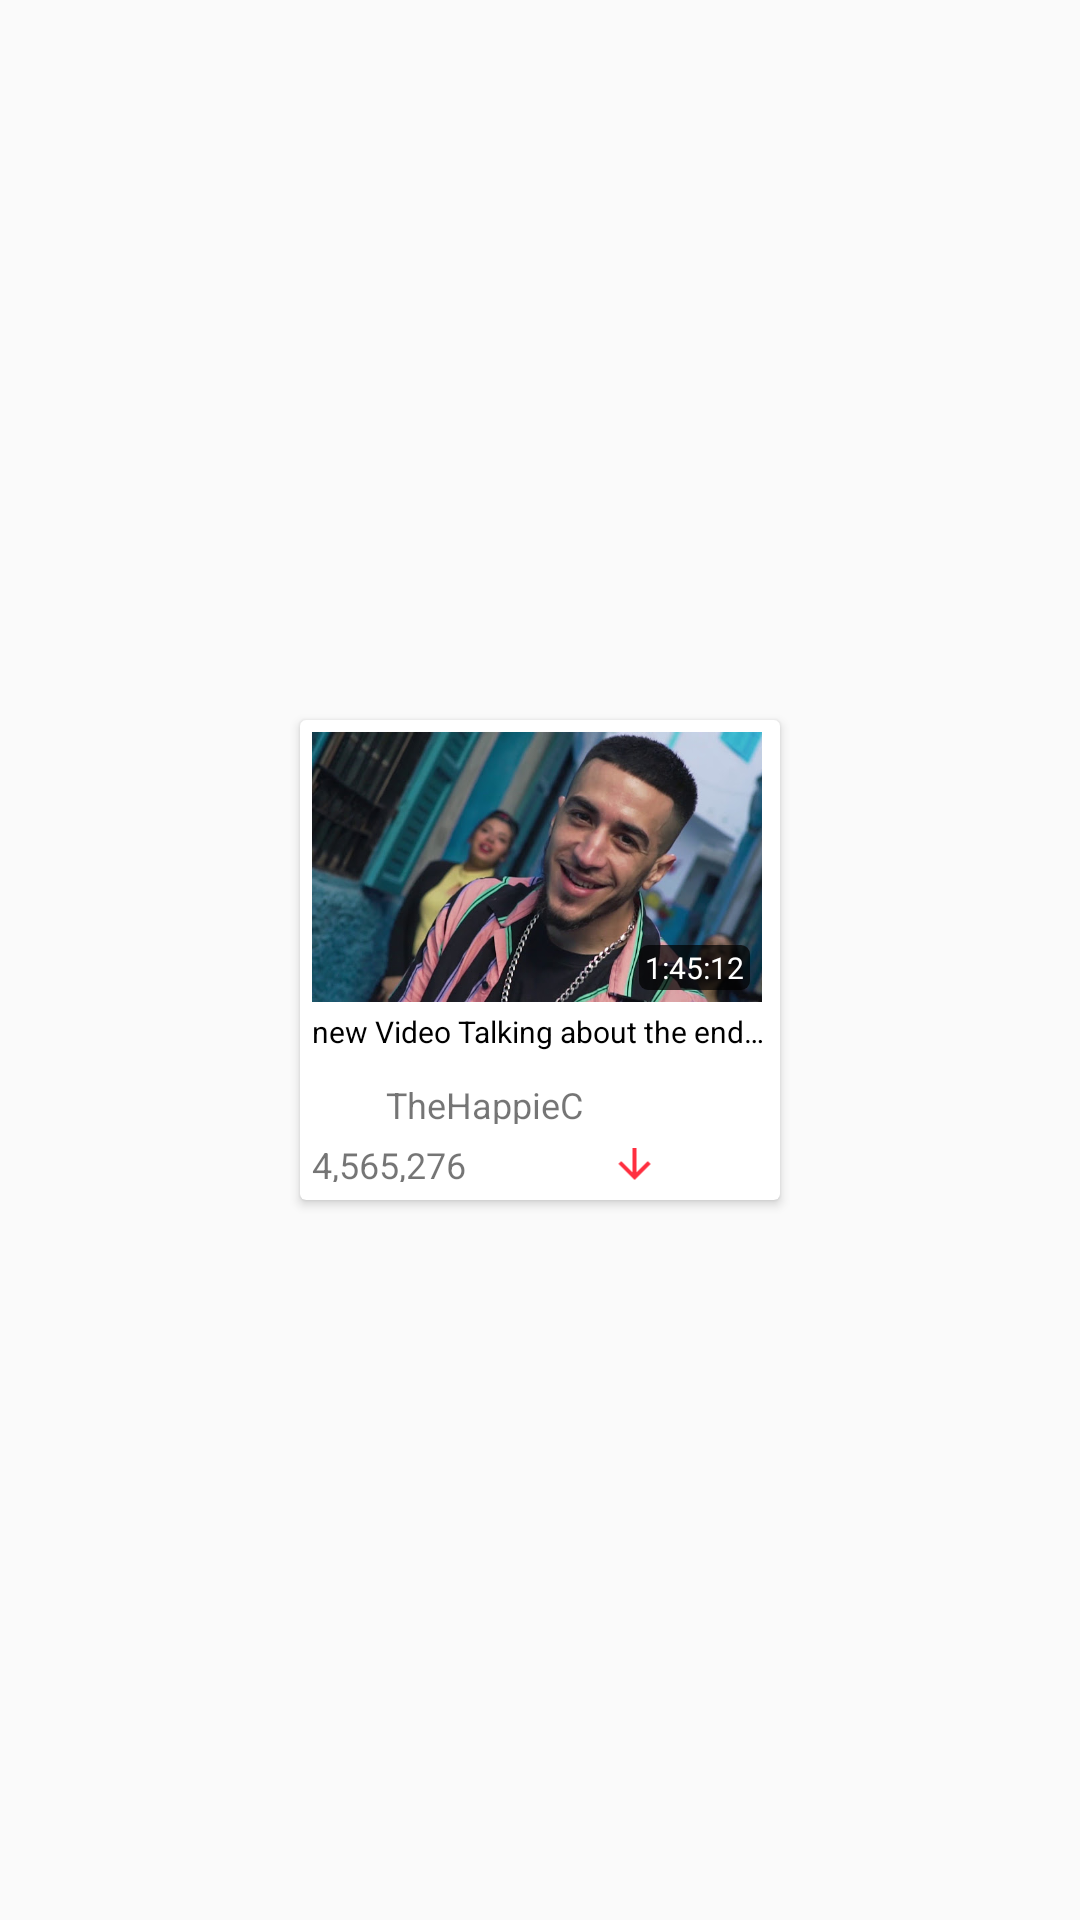

Icons on this 1080w x 1920h Android screen, each with its box as [x1, y1, x2, y2]:
download: [618, 1148, 651, 1180]
